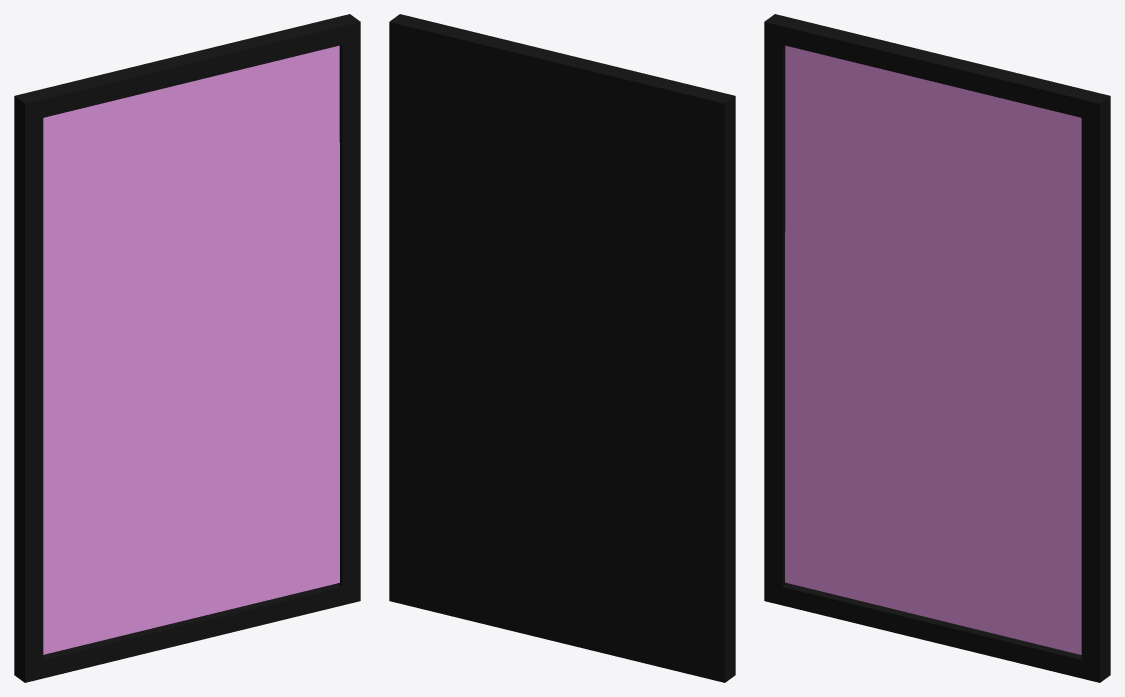
3 renders of one model, left to right at view 1: azimuth 30°, elevation 25°; view 2: azimuth 150°, elevation 25°; view 3: azimuth 330°, elevation 25°, orthographic.
Visible parts, largest first — view 1: node_MeshObject-768556544-PolyGem25, node_MeshObject174253568-PolyPaper23; view 2: node_MeshObject174253568-PolyPaper23; view 3: node_MeshObject-768556544-PolyGem25, node_MeshObject174253568-PolyPaper23.
Part boxes in pixels (x1=…): node_MeshObject-768556544-PolyGem25: x1=43, y1=45, x2=339, y2=654; node_MeshObject174253568-PolyPaper23: x1=14, y1=14, x2=360, y2=682; node_MeshObject174253568-PolyPaper23: x1=389, y1=14, x2=735, y2=682; node_MeshObject-768556544-PolyGem25: x1=785, y1=45, x2=1081, y2=654; node_MeshObject174253568-PolyPaper23: x1=764, y1=14, x2=1110, y2=682.
Size of the model in its own units: 0.54 by 0.89 by 0.03.
